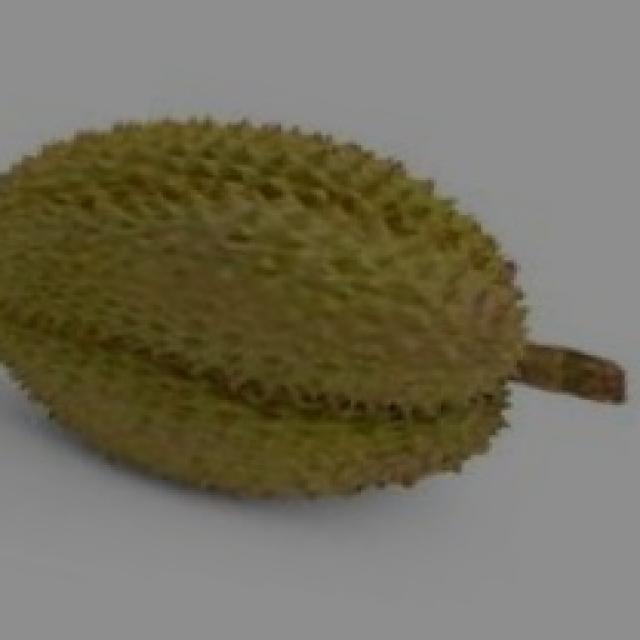fruit: (194, 128, 581, 560), (0, 127, 369, 565)
